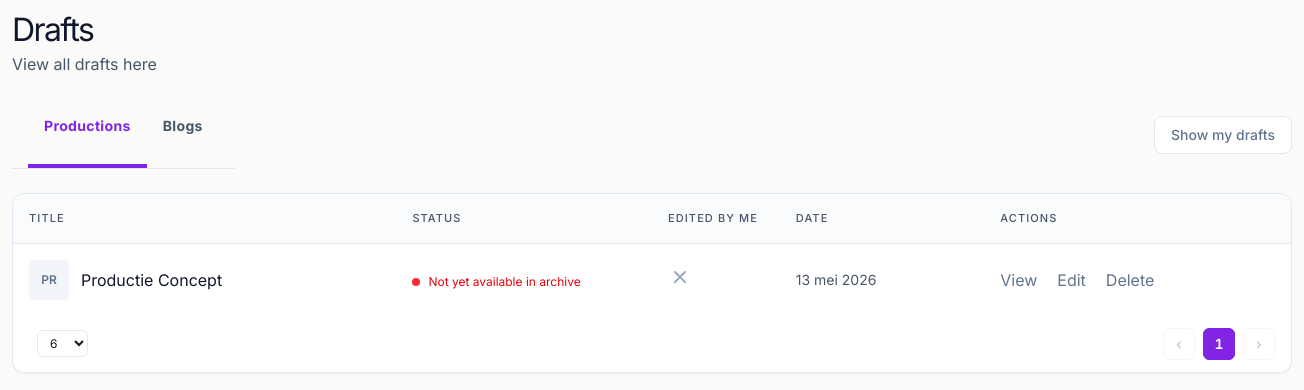
Scenario: DraftsDashboardPage › switches safely to the Blog tab context and re-evaluates display outputs using the secondary hook
Check: the text "Productie Concept" is shown, box [81,270,222,290]
Check: the text "Blog Concept Tekst" is not shown
Click the button "Blogs".
click(183, 134)  # box [147,100,219,168]
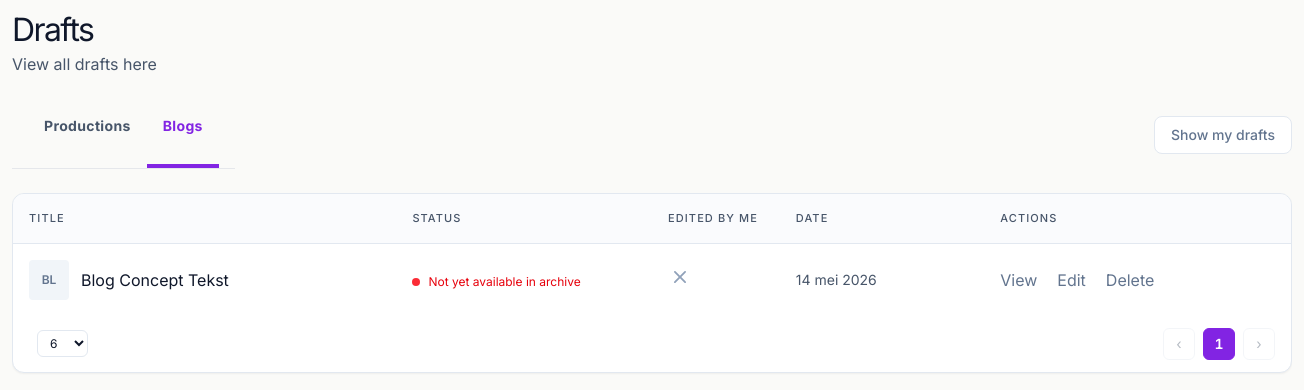
Check: the text "Productie Concept" is gone
Check: the text "Blog Concept Tekst" is shown, box [81,270,229,290]
